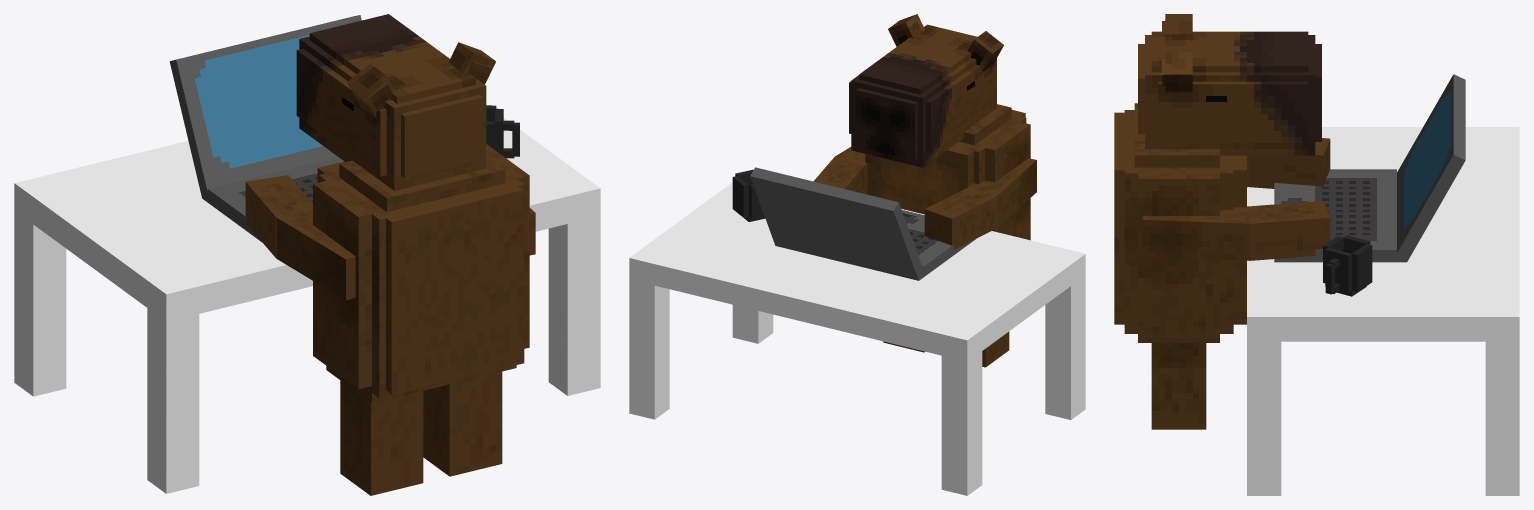
File: Carpincho3D.gltf
3 renders of one model, left to right at view 1: azimuth 30°, elevation 25°; view 2: azimuth 150°, elevation 25°; view 3: azimuth 270°, elevation 25°, orthographic. The views are drawn at different scales.
Parts seen in each view (by area): view 1: cube (×22); view 2: cube (×22); view 3: cube (×24).
Part boxes in pixels (left/top/right/bottom): cube (×22): left=14, top=14, right=600, bottom=495; cube (×22): left=629, top=14, right=1085, bottom=495; cube (×24): left=1114, top=14, right=1519, bottom=495.
Bounding box in the file's own units: 2.06 × 1.86 × 1.86.
Materials: 9 (9 with a texture image).
